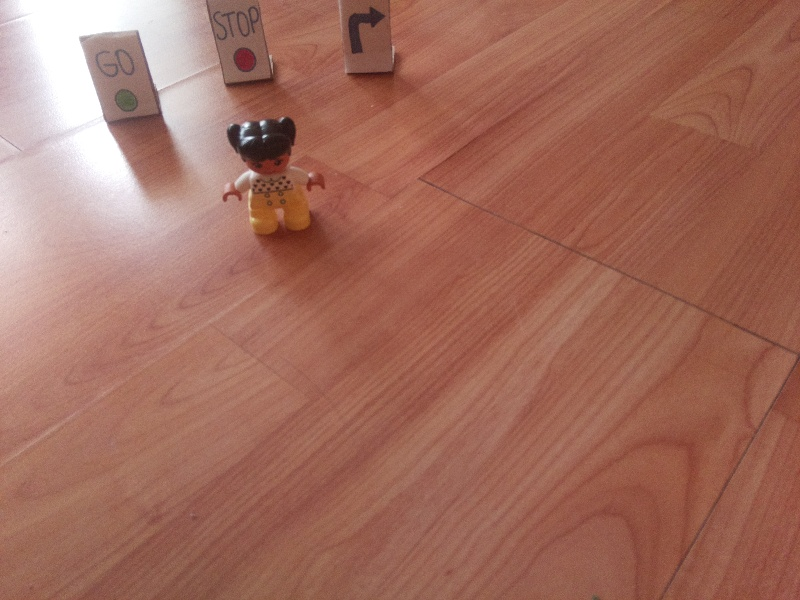go: (94, 47, 146, 110)
person: (215, 117, 336, 235)
stop: (211, 3, 266, 73)
turn right: (348, 2, 385, 62)
